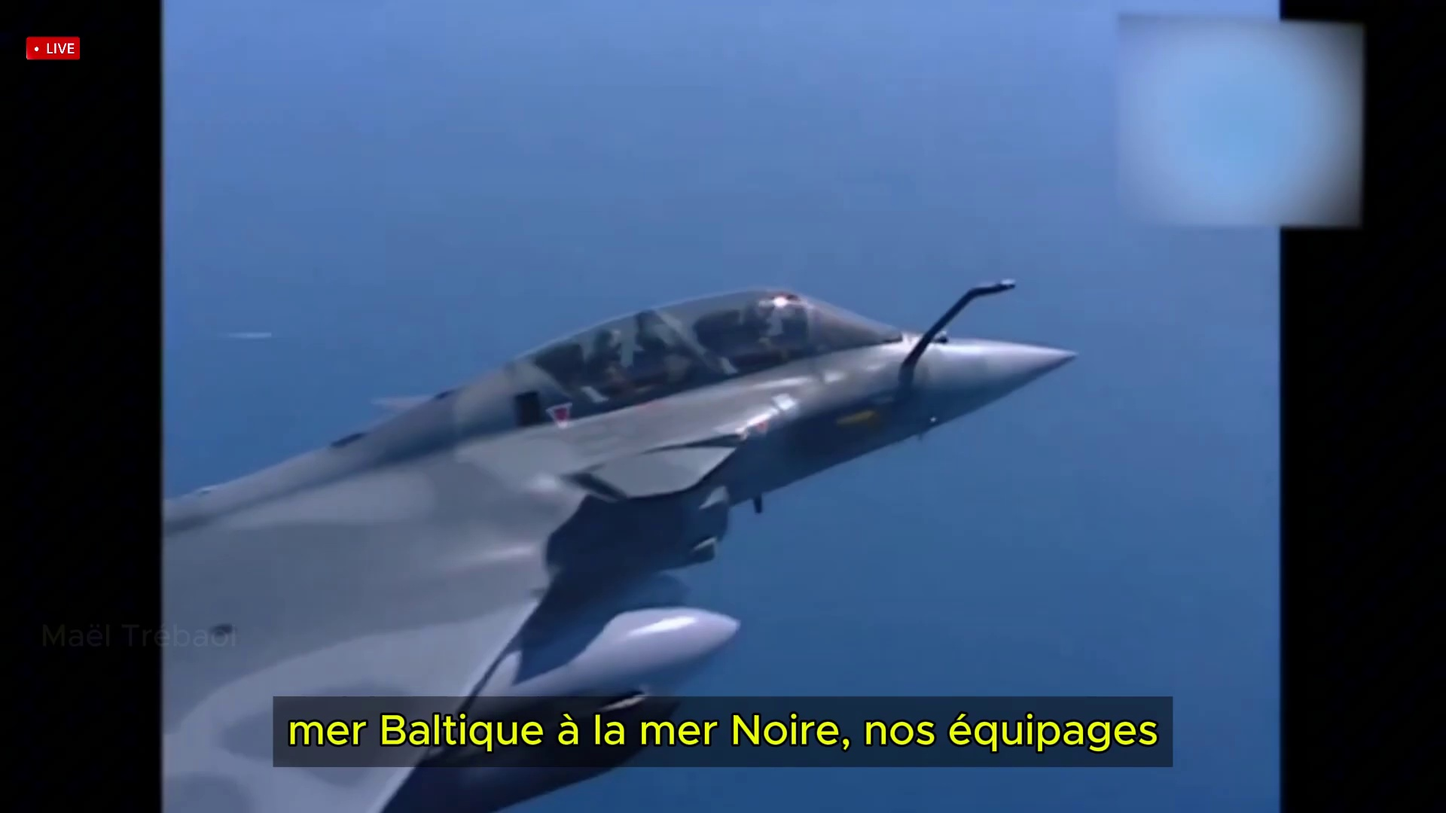Rafale: (158, 277, 1107, 811)
